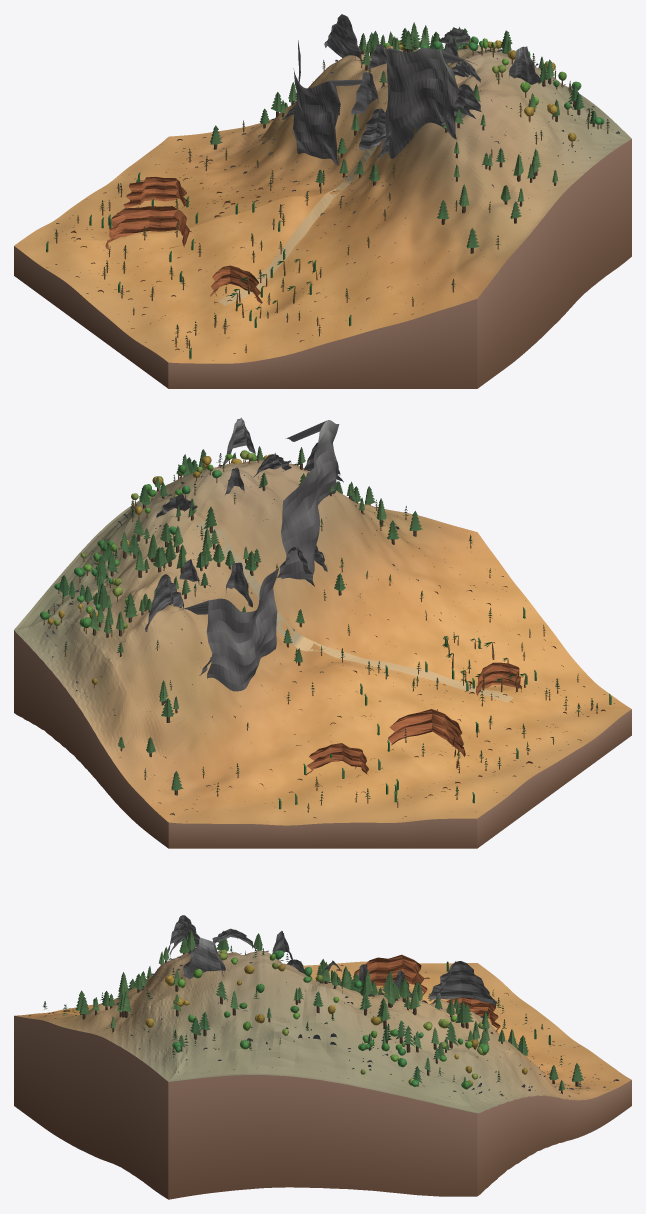
3 views of the same model, one above another, from view 1: azimuth 30°, elevation 25°; view 2: azimuth 150°, elevation 25°; view 3: azimuth 270°, elevation 25° (orthographic).
Parts seen in each view (by area): view 1: terrain, hex_side_cut, stratified_cliff_faces, conifers, angular_escarpments, sandstone_mesas, dry_streambed, biome_blend_trunks, ecotone_broadleaf_canopy, biome_blend_conifers, loose_rocks, cacti (+1 smaller); view 2: terrain, hex_side_cut, stratified_cliff_faces, conifers, angular_escarpments, sandstone_mesas, dry_streambed, ecotone_broadleaf_canopy, biome_blend_conifers, biome_blend_trunks, trunks, loose_rocks (+1 smaller); view 3: hex_side_cut, terrain, conifers, angular_escarpments, ecotone_broadleaf_canopy, sandstone_mesas, trunks, biome_blend_conifers, loose_rocks.
Boxes of the visible parts, left/top/right/bottom form: terrain: left=14, top=45, right=631, bottom=363; hex_side_cut: left=14, top=139, right=631, bottom=388; stratified_cliff_faces: left=293, top=40, right=476, bottom=165; conifers: left=210, top=22, right=596, bottom=248; angular_escarpments: left=282, top=14, right=539, bottom=158; sandstone_mesas: left=105, top=176, right=262, bottom=310; dry_streambed: left=218, top=146, right=376, bottom=305; biome_blend_trunks: left=56, top=39, right=608, bottom=353; ecotone_broadleaf_canopy: left=360, top=36, right=604, bottom=141; biome_blend_conifers: left=54, top=37, right=609, bottom=350; loose_rocks: left=54, top=47, right=619, bottom=353; cacti: left=46, top=172, right=351, bottom=358; terrain: left=14, top=460, right=631, bottom=825; hex_side_cut: left=14, top=630, right=631, bottom=848; stratified_cliff_faces: left=172, top=420, right=339, bottom=691; conifers: left=59, top=446, right=422, bottom=790; angular_escarpments: left=145, top=417, right=343, bottom=675; sandstone_mesas: left=305, top=662, right=521, bottom=786; dry_streambed: left=196, top=520, right=513, bottom=702; ecotone_broadleaf_canopy: left=40, top=450, right=270, bottom=684; biome_blend_conifers: left=48, top=450, right=598, bottom=808; biome_blend_trunks: left=47, top=453, right=597, bottom=812; trunks: left=63, top=463, right=416, bottom=795; loose_rocks: left=46, top=460, right=605, bottom=818; hex_side_cut: left=14, top=1015, right=631, bottom=1199; terrain: left=15, top=950, right=631, bottom=1113; conifers: left=75, top=930, right=583, bottom=1090; angular_escarpments: left=167, top=915, right=496, bottom=1005; ecotone_broadleaf_canopy: left=145, top=949, right=527, bottom=1089; sandstone_mesas: left=354, top=954, right=500, bottom=1030; trunks: left=80, top=950, right=578, bottom=1093; biome_blend_conifers: left=43, top=945, right=581, bottom=1088; loose_rocks: left=29, top=948, right=619, bottom=1096.
Size of the model in its own units: 4330 by 2290 by 5000.
